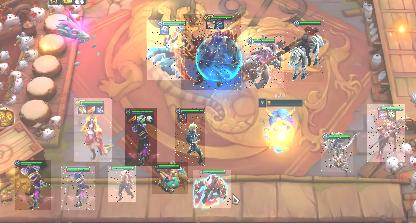1_diana: (108, 166, 136, 202)
1_lillia: (367, 104, 405, 162)
1_olaf: (193, 170, 231, 208)
1_seraphine: (152, 162, 188, 194)
1_varus: (61, 166, 95, 210)
2_ezreal: (175, 108, 205, 166)
2_nunu: (147, 20, 185, 80)
2_rell: (284, 20, 324, 82)
2_sejuani: (244, 36, 284, 88)
2_twitch: (321, 132, 353, 172)
2_varus: (125, 108, 157, 166), (15, 160, 51, 210)
3_hecarim: (181, 14, 241, 90)
3_xayah: (74, 98, 112, 162)
